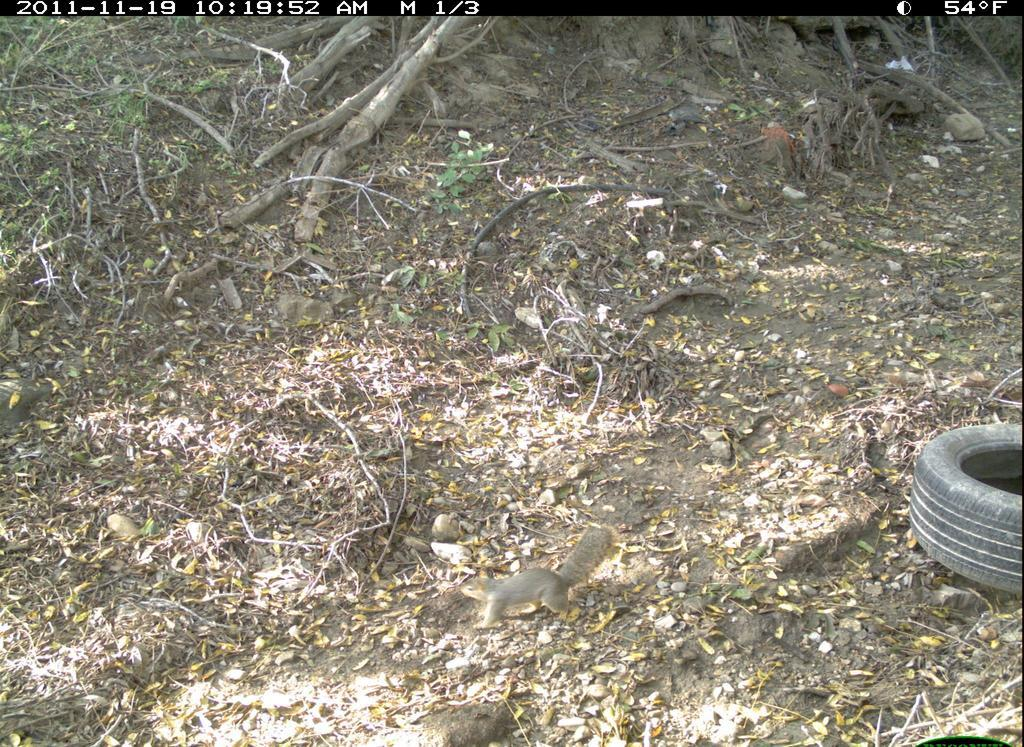squirrel: (447, 525, 621, 628)
